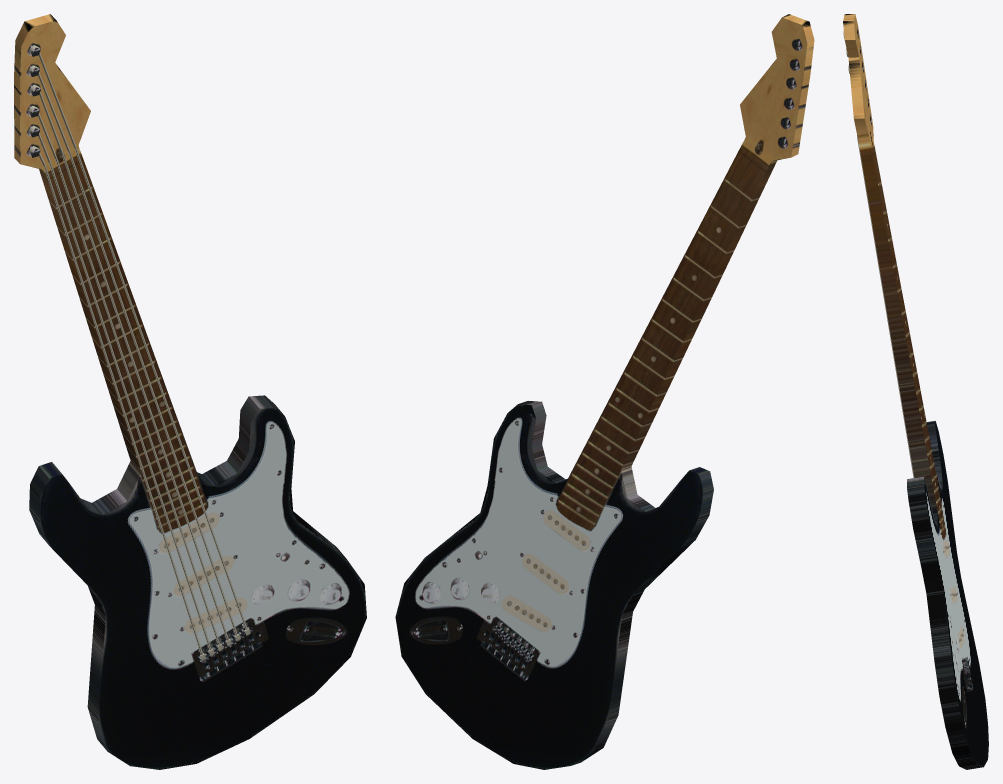
The model's file is GuitarCurse2.fbx.
3 views of the same model, side by side, from view 1: azimuth 30°, elevation 25°; view 2: azimuth 150°, elevation 25°; view 3: azimuth 270°, elevation 25° (orthographic). The views are drawn at different scales.
Visible parts, largest first — view 1: Gitarre; view 2: Gitarre; view 3: Gitarre.
Part boxes in pixels (<box>): Gitarre: <box>14,14,366,769</box>; Gitarre: <box>395,14,814,769</box>; Gitarre: <box>843,14,988,769</box>.
Bounding box in the file's own units: 30.96 × 61.96 × 12.46.
